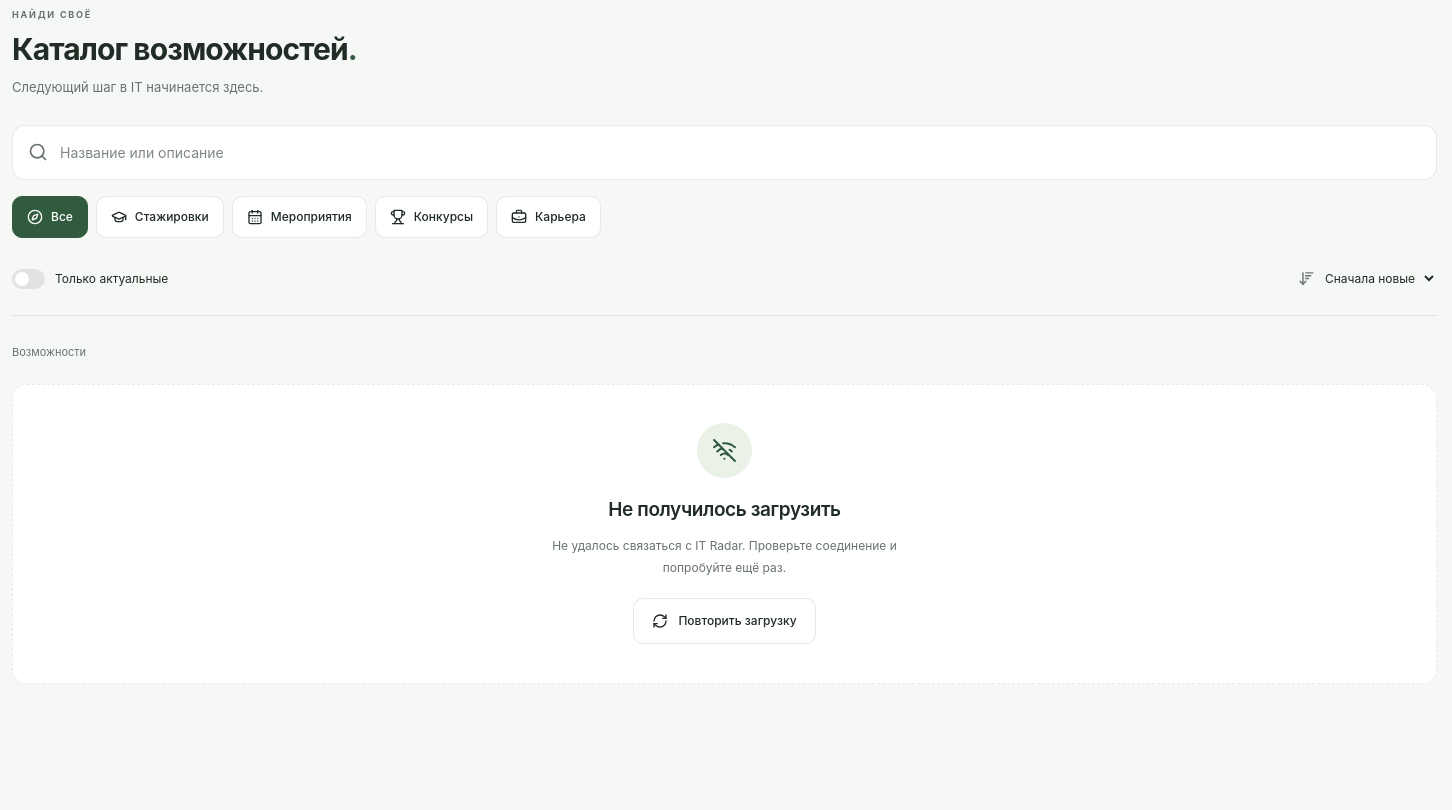
Test: Каталог › shows safe API errors and retries on demand
Check: the message does not show "/private/db/path", box [12, 384, 1437, 684]
Step 1. Click the button "Повторить загрузку" → (724, 621), box [633, 598, 816, 644]
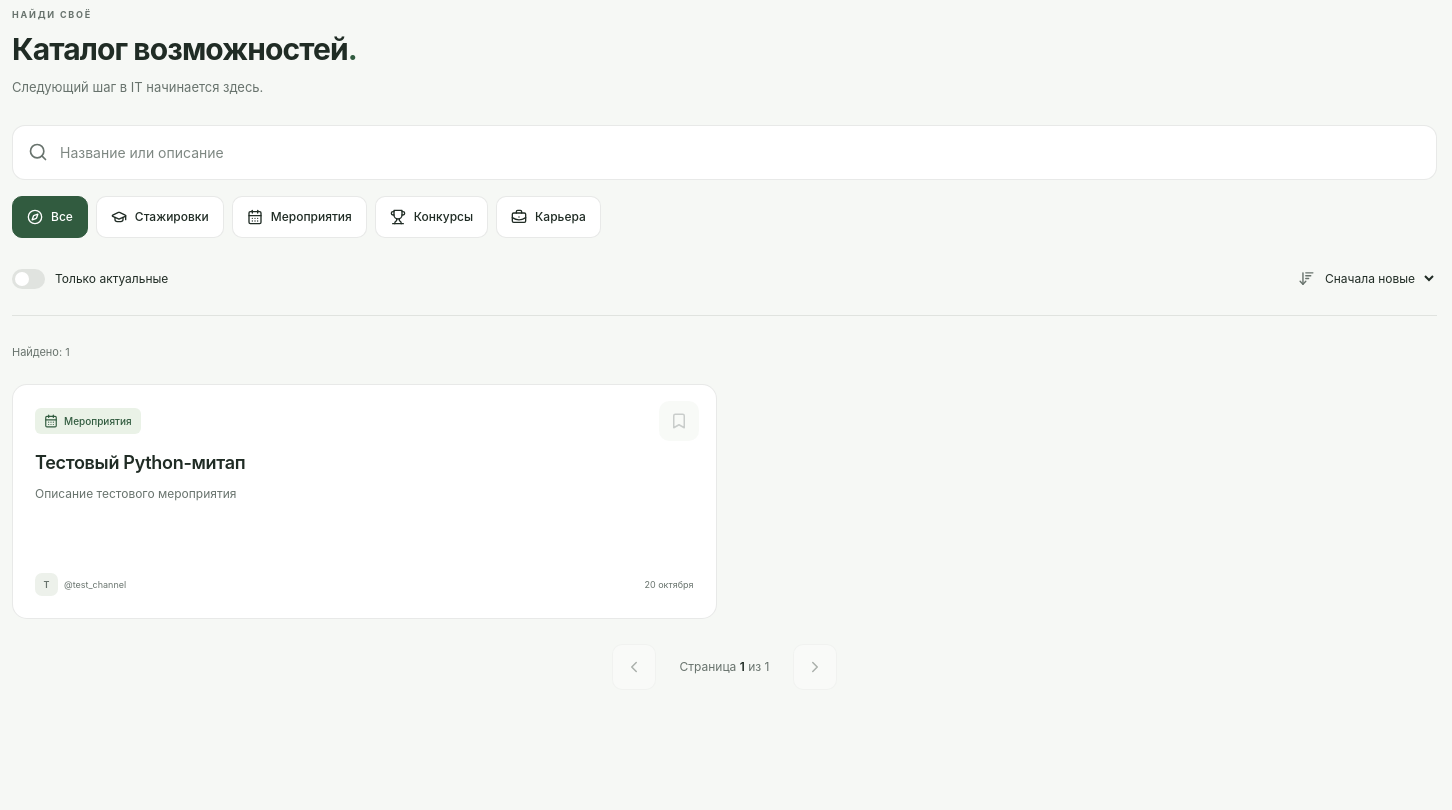
Check: the heading "Тестовый Python-митап" is shown, box [35, 450, 245, 475]
